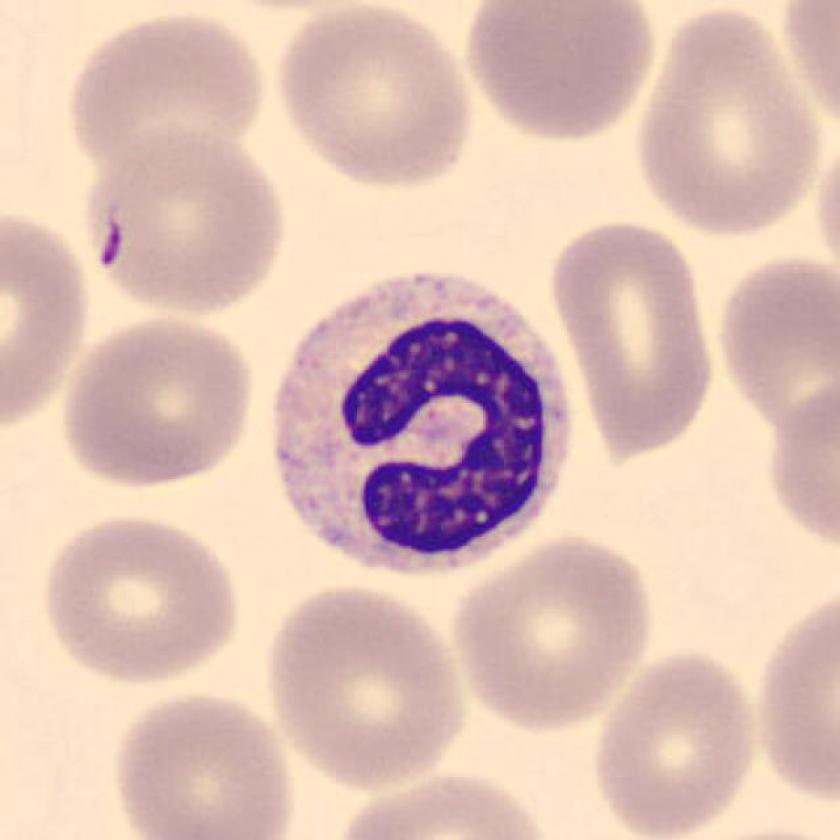neutrophil: (273, 274, 572, 567)
